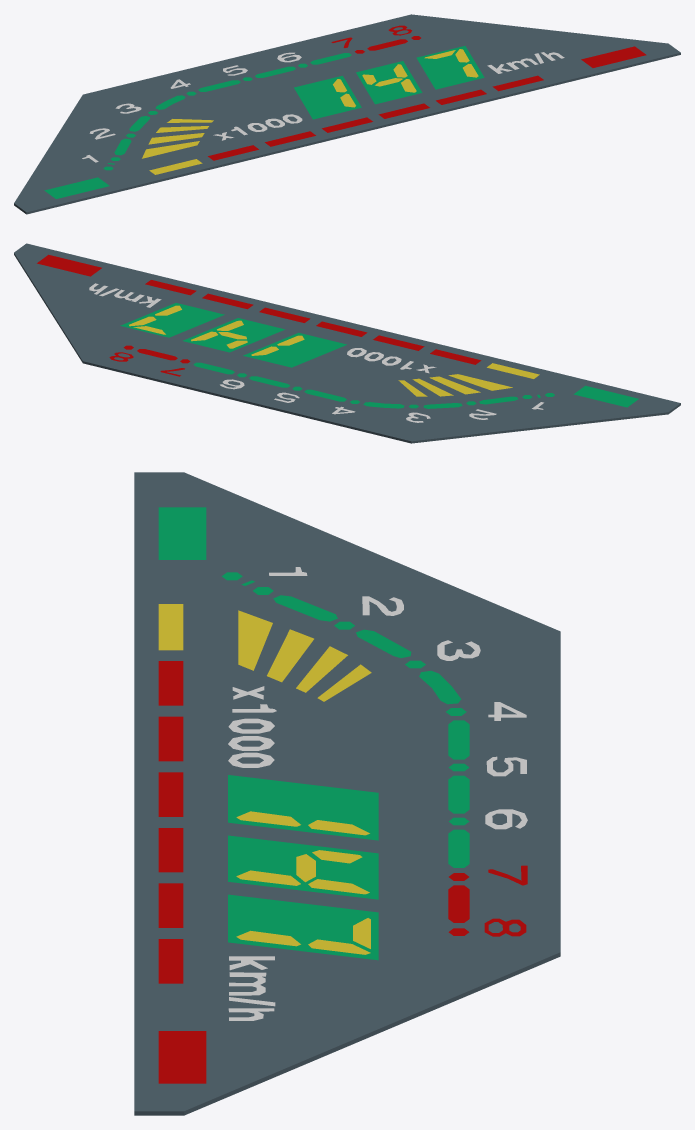
3 views of the same model, one above another, from view 1: azimuth 30°, elevation 25°; view 2: azimuth 150°, elevation 25°; view 3: azimuth 270°, elevation 25° (orthographic). The views are drawn at different scales.
Parts seen in each view (by area): view 1: world; view 2: world; view 3: world.
Boxes of the visible parts, x1,y1,x2,y2 form: world: (14, 14, 680, 214); world: (14, 243, 680, 443); world: (134, 472, 560, 1115).
Bounding box in the file's own units: 0.0312 × 0.0001 × 0.0088.
